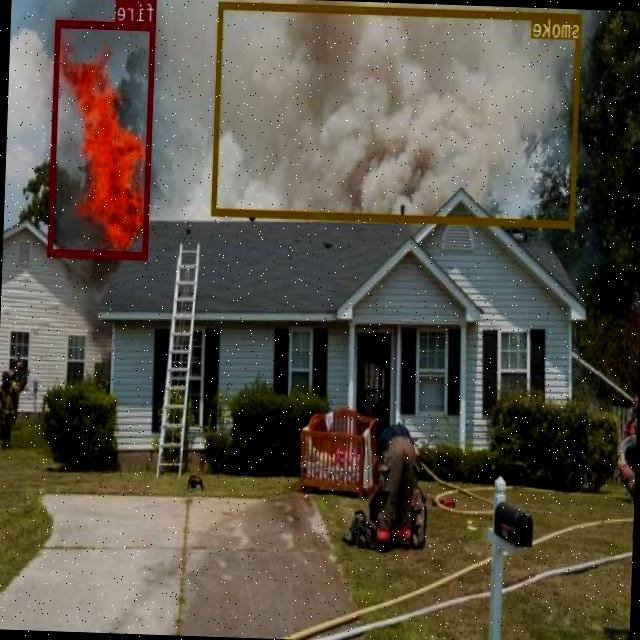fire: (48, 19, 156, 258)
smoke: (212, 0, 582, 226)
